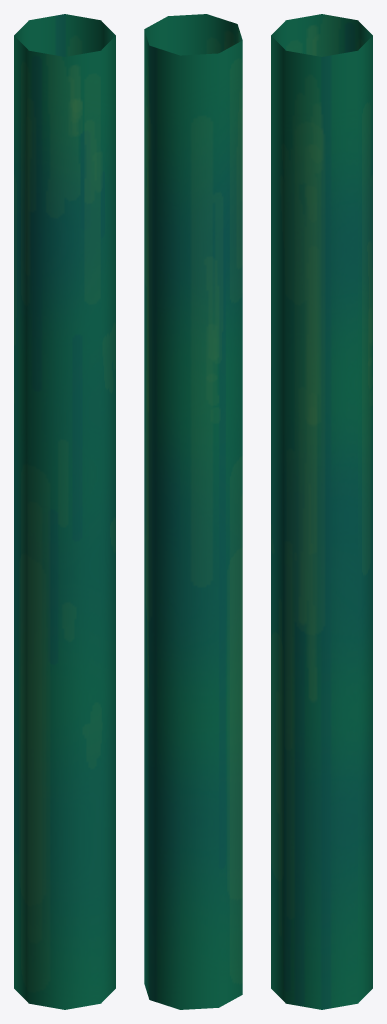
File: stem_obj.fbx
3 renders of one model, left to right at view 1: azimuth 90°, elevation 25°; view 2: azimuth 210°, elevation 25°; view 3: azimuth 270°, elevation 25°, orthographic.
Visible parts, largest first — view 1: stem_mdl; view 2: stem_mdl; view 3: stem_mdl.
Boxes of the visible parts, box(x1,y1,x2,y2) form: stem_mdl: box(14, 14, 115, 1009); stem_mdl: box(144, 14, 242, 1009); stem_mdl: box(271, 14, 372, 1009).
Size of the model in its own units: 0.9677 by 10 by 0.9677.
1 material, 1 textured.
